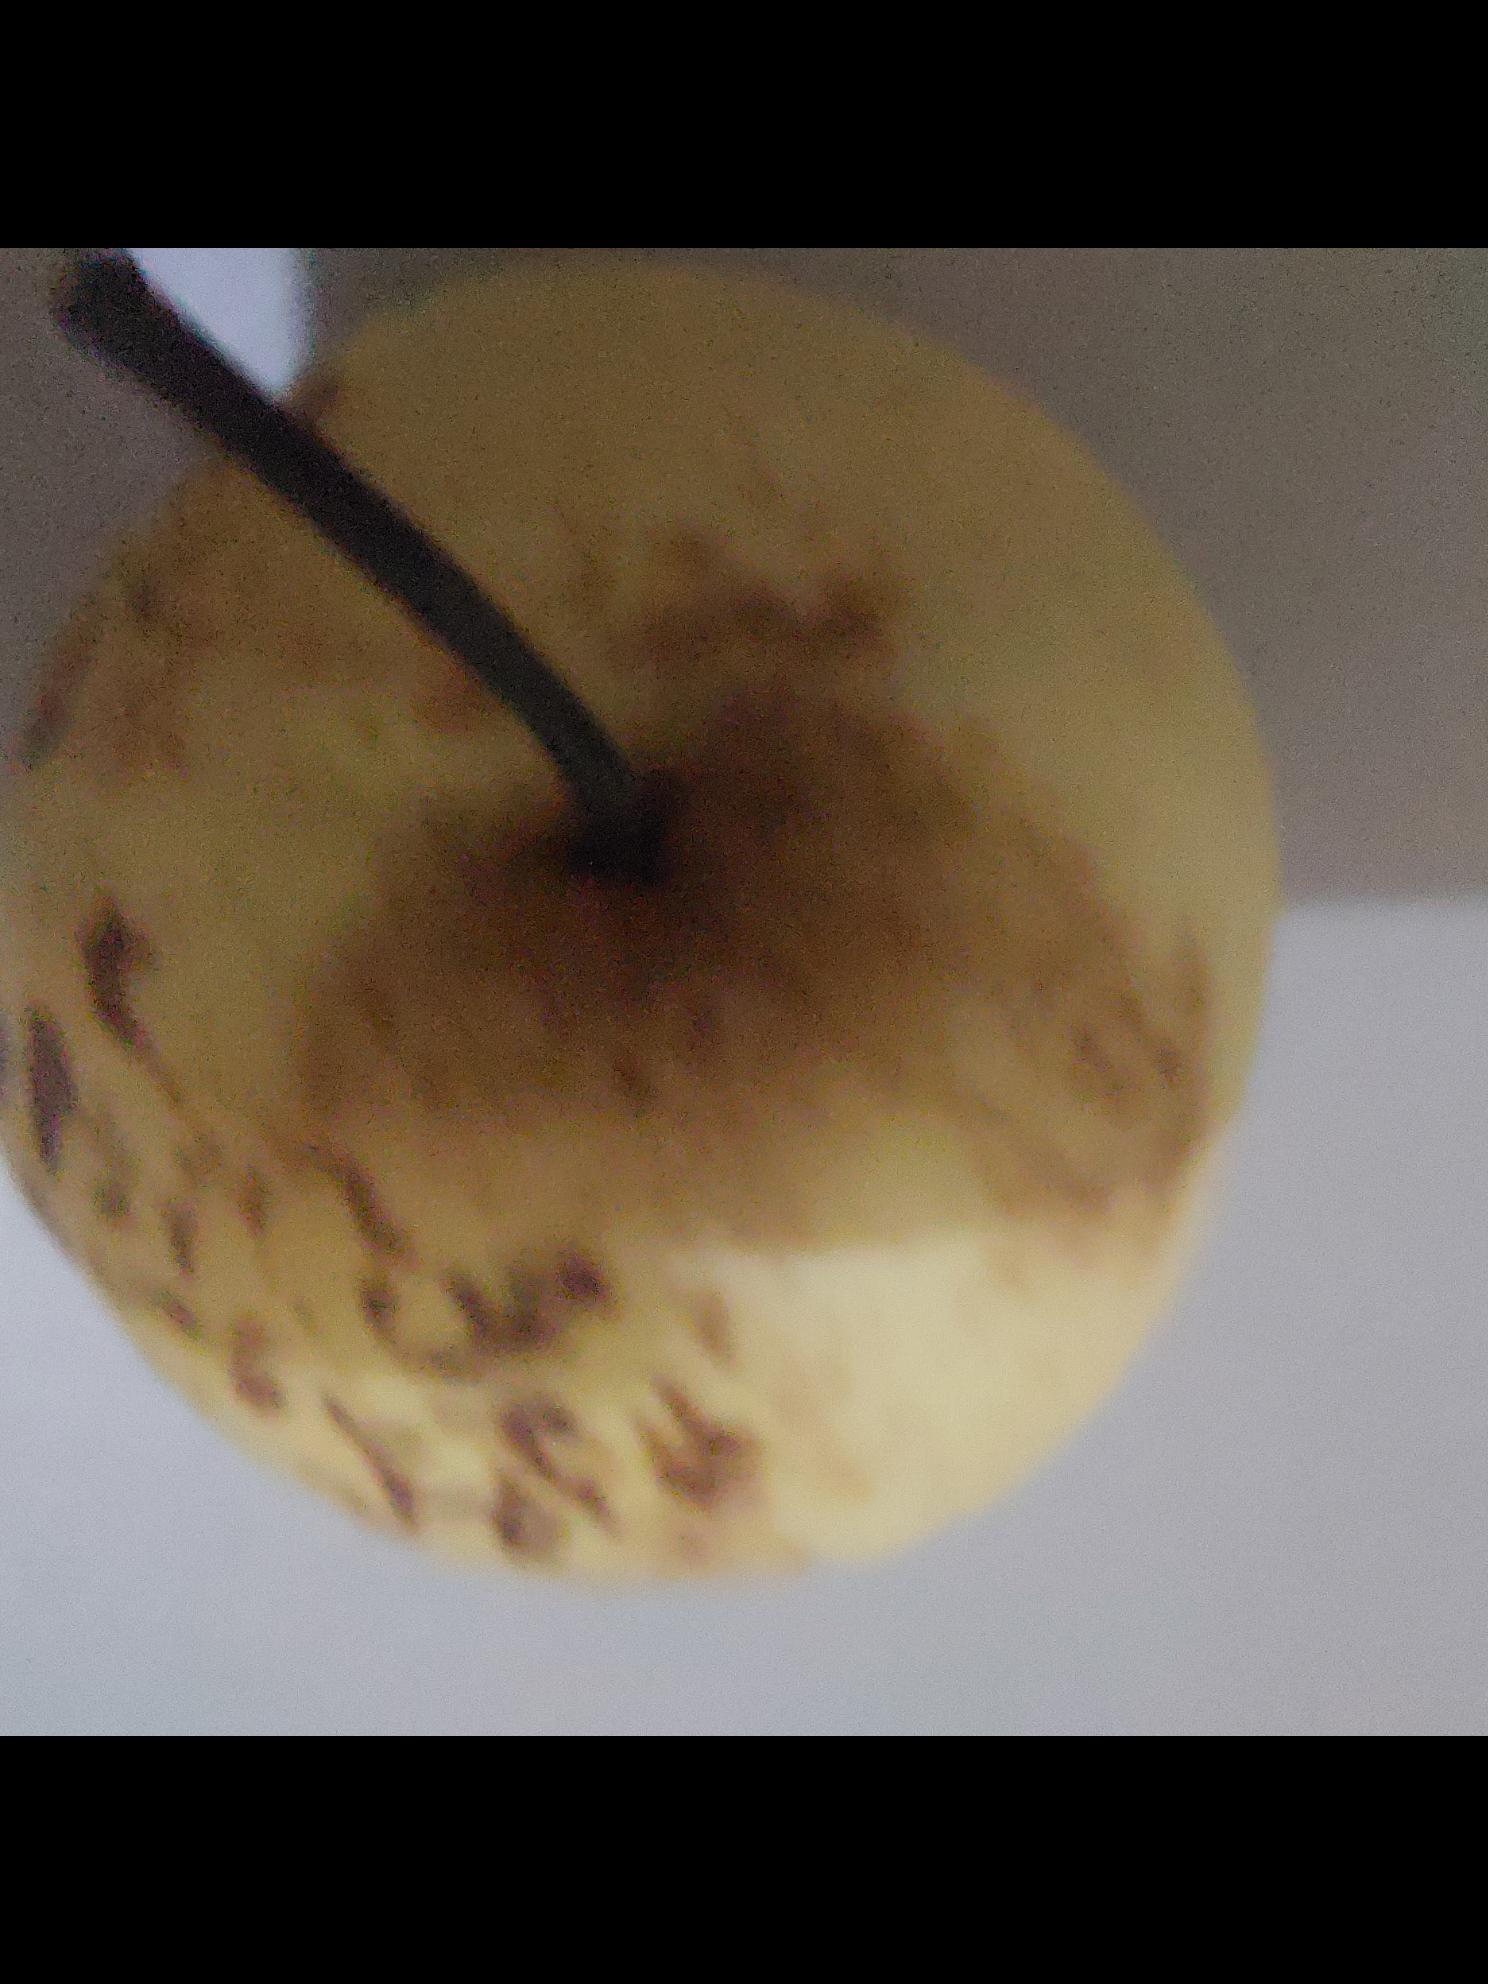Bad Pear: (8, 264, 1289, 1559)
